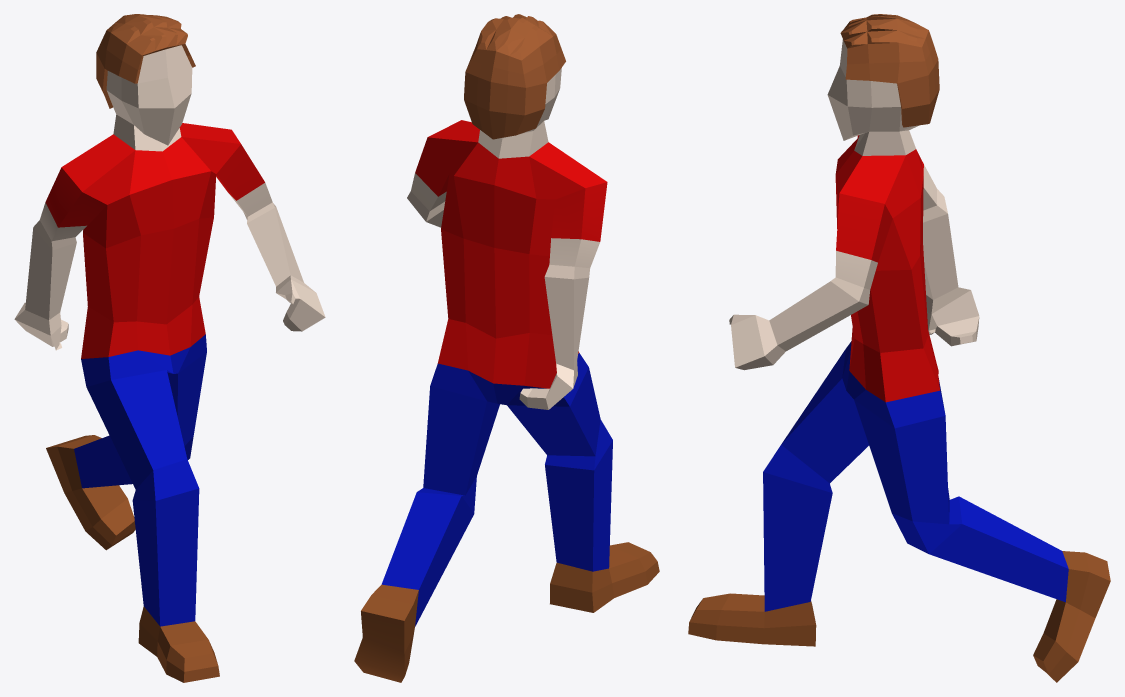
Rendered from Human_walking_27.fbx.
3 renders of one model, left to right at view 1: azimuth 30°, elevation 25°; view 2: azimuth 150°, elevation 25°; view 3: azimuth 270°, elevation 25°, orthographic. The views are drawn at different scales.
Parts seen in each view (by area): view 1: Person; view 2: Person; view 3: Person.
Boxes of the visible parts, bbox=[...] form: Person: bbox=[14, 14, 325, 682]; Person: bbox=[354, 14, 659, 682]; Person: bbox=[688, 14, 1110, 682].
Size of the model in its own units: 0.1146 by 0.3086 by 0.1855.
